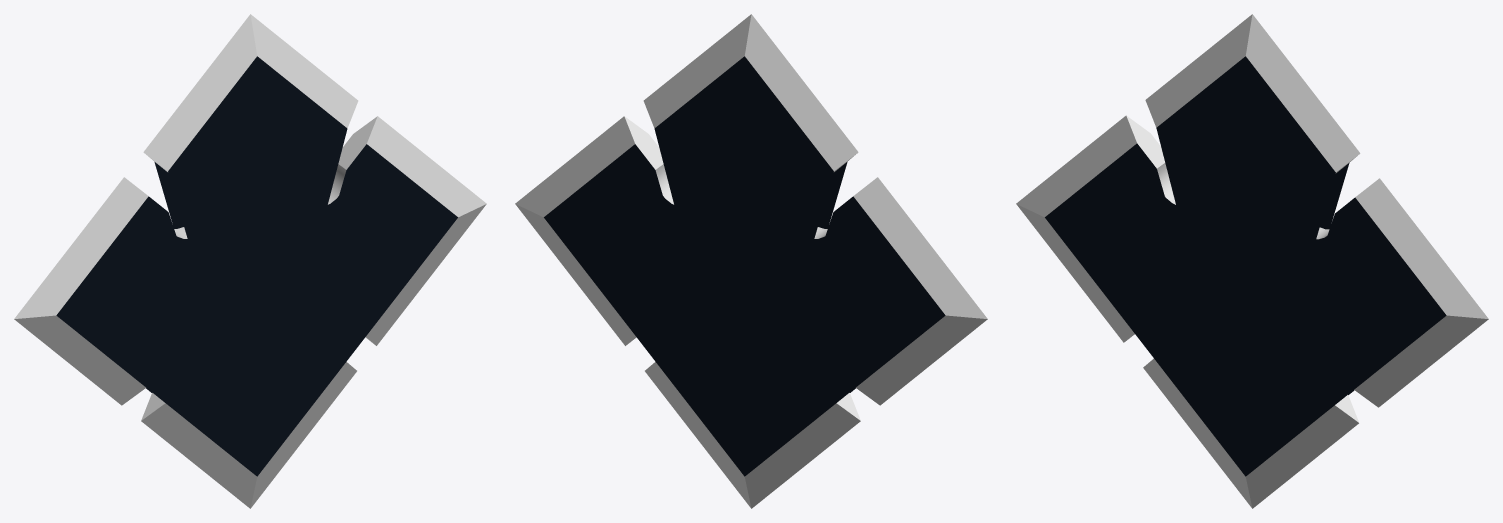
Rendered from Shuriken_13.fbx.
The picture shows the model from 3 angles, left to right: view 1: azimuth 30°, elevation 25°; view 2: azimuth 150°, elevation 25°; view 3: azimuth 330°, elevation 25°; orthographic projection.
Parts seen in each view (by area): view 1: Shuriken_13; view 2: Shuriken_13; view 3: Shuriken_13.
Boxes of the visible parts, x1,y1,x2,y2 form: Shuriken_13: (14, 14, 486, 508); Shuriken_13: (515, 14, 987, 508); Shuriken_13: (1016, 14, 1488, 508).
Bounding box in the file's own units: 2 × 2 × 0.0996.
